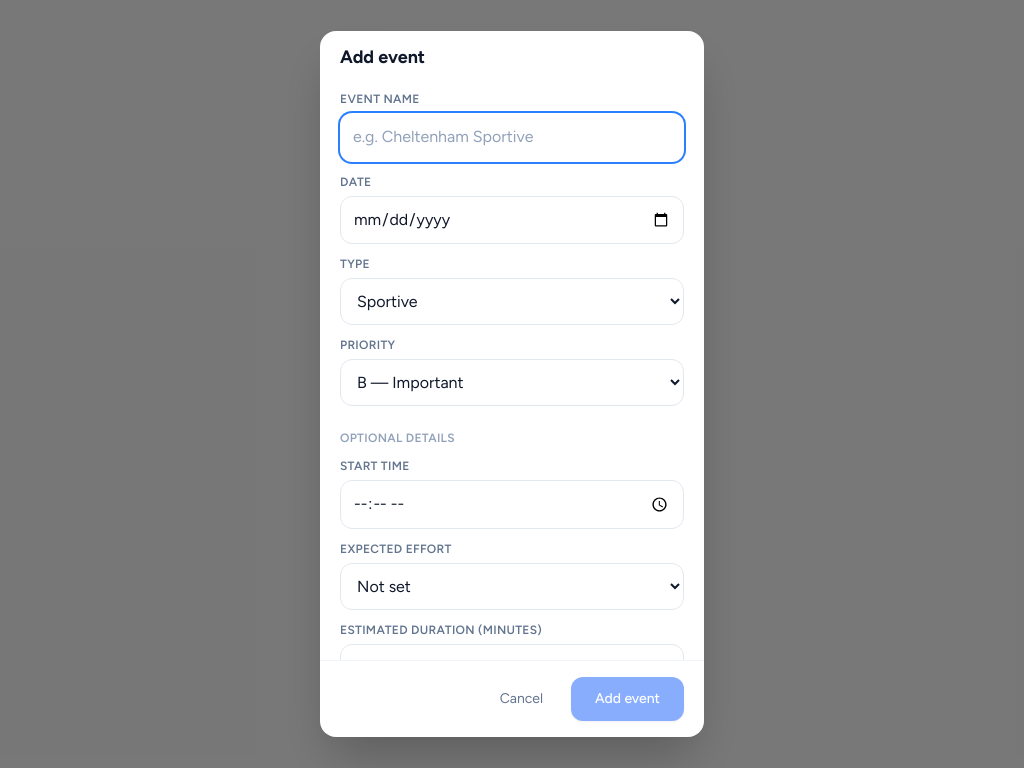
AddEventModal — holiday date range and continue training › resets End date to the start date when switching away and back to Holiday riding
This screenshot has width=1024, height=768.
Type "Ski Trip" into the field with placeholder "e.g. Cheltenham Sportive". click: (512, 137)
box: [340,113,684,162]
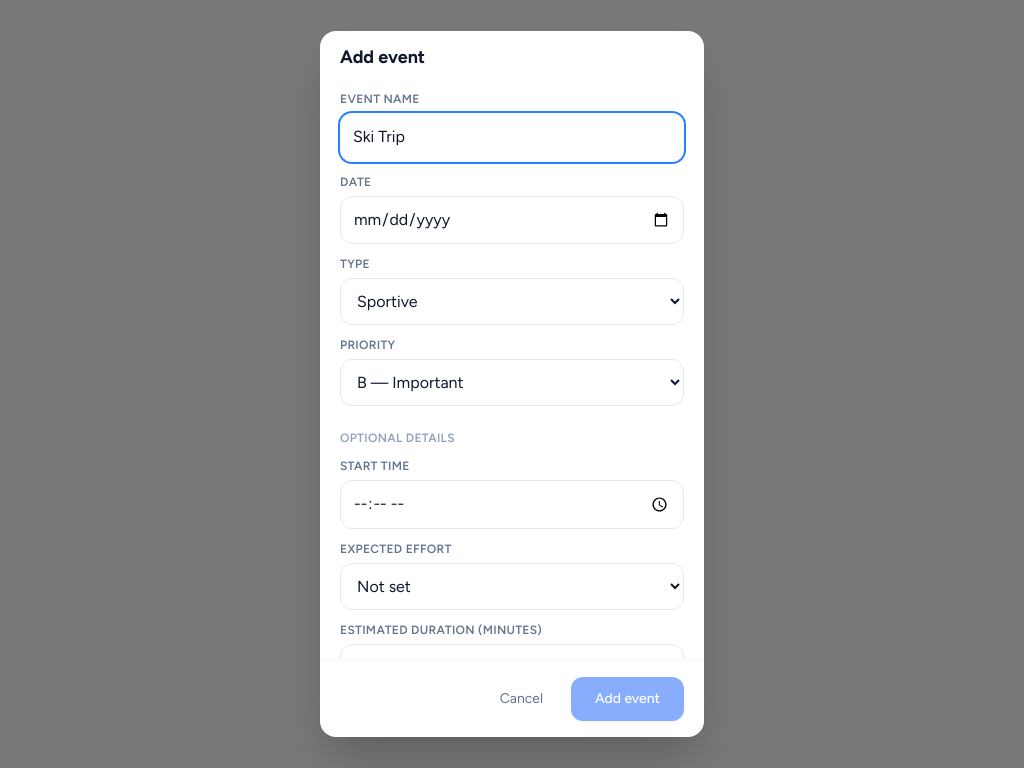
Type "2026-08-10" into the date field. click: (512, 220)
box: [340,196,684,244]
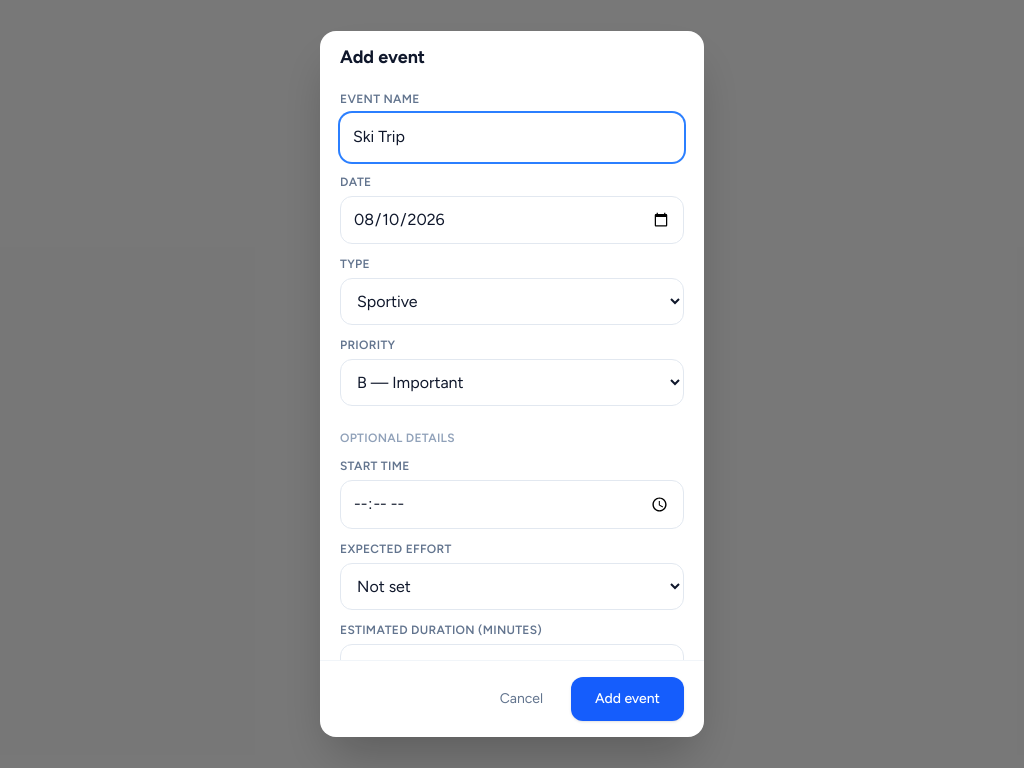
Select "Holiday riding" in the dropdown showing "Sportive" below "Type". click: (512, 302)
box: [340,278,684,325]
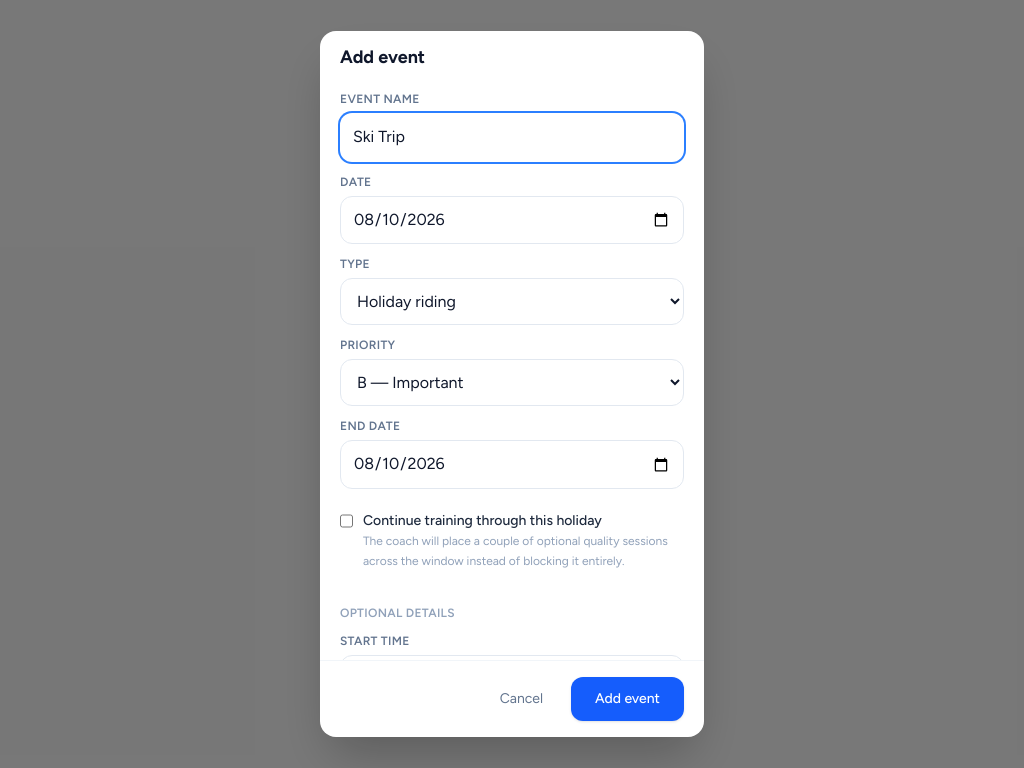
Type "2026-08-20" into the date field below "End date". click: (512, 465)
box: [340,440,684,489]
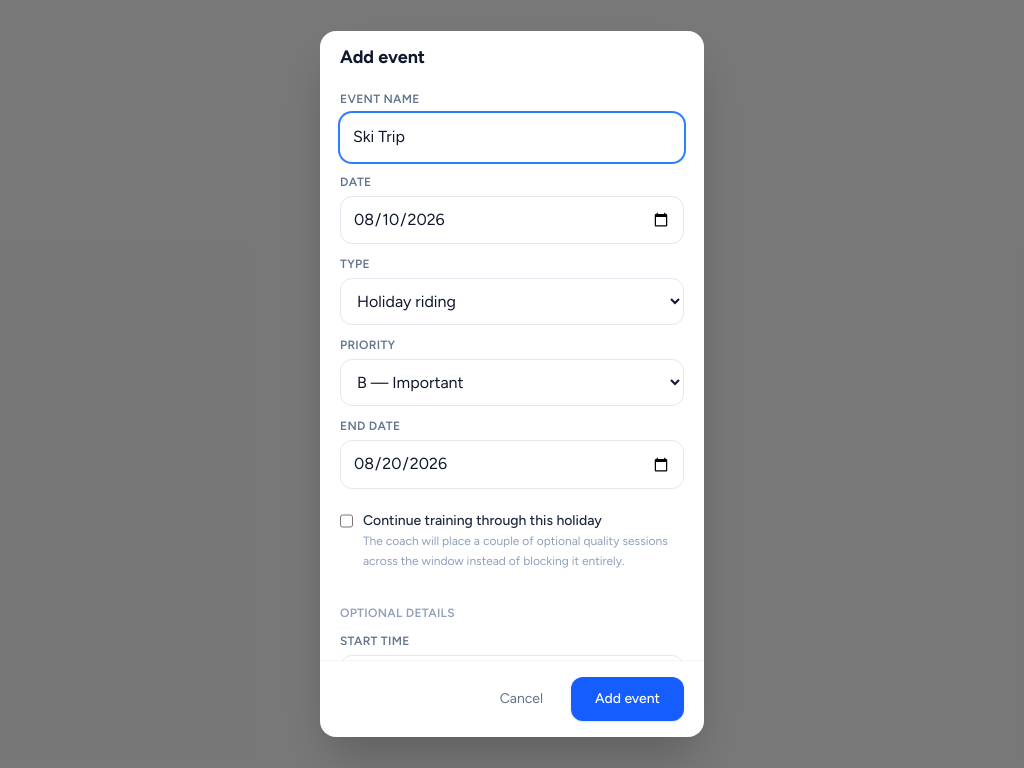
Select "Sportive" in the dropdown showing "Holiday riding" below "Type". click: (512, 302)
box: [340,278,684,325]
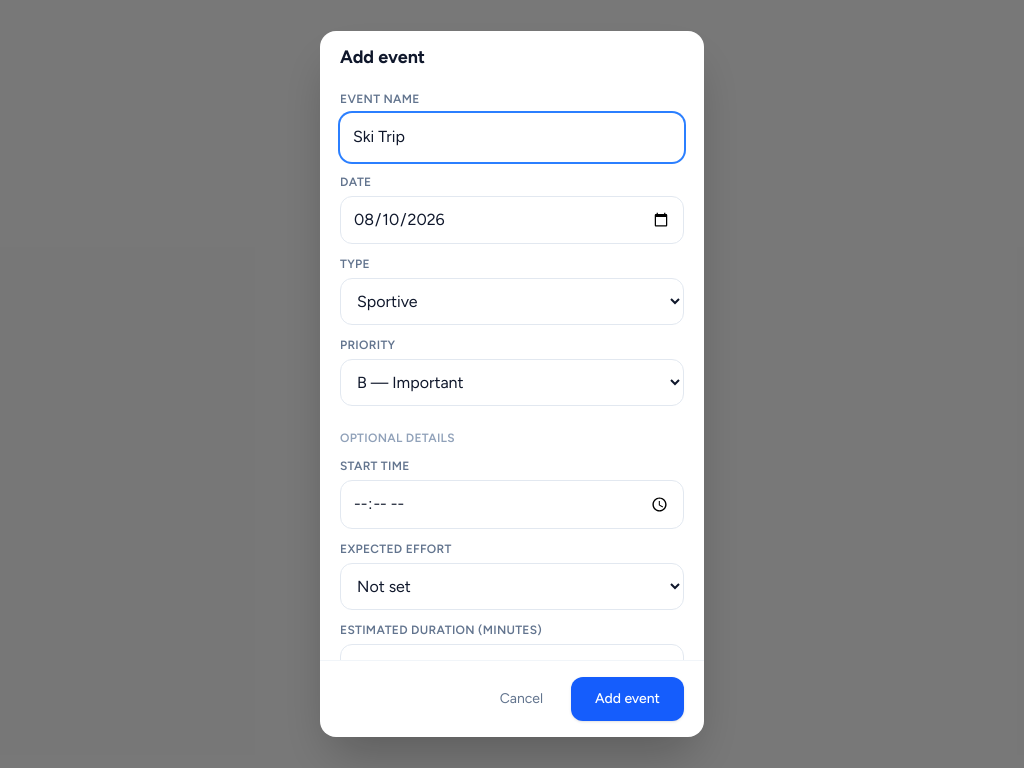
Select "Holiday riding" in the dropdown showing "Sportive" below "Type". click: (512, 302)
box: [340,278,684,325]
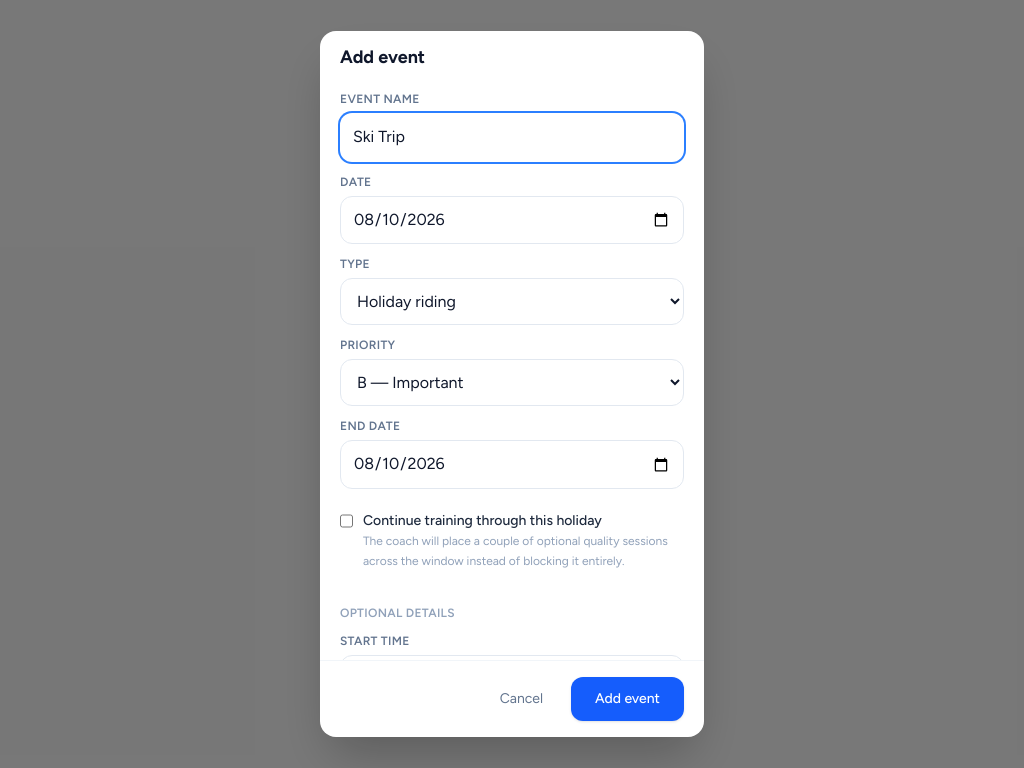
Now the date field below "End date" holds "2026-08-10", box [340,440,684,489]
